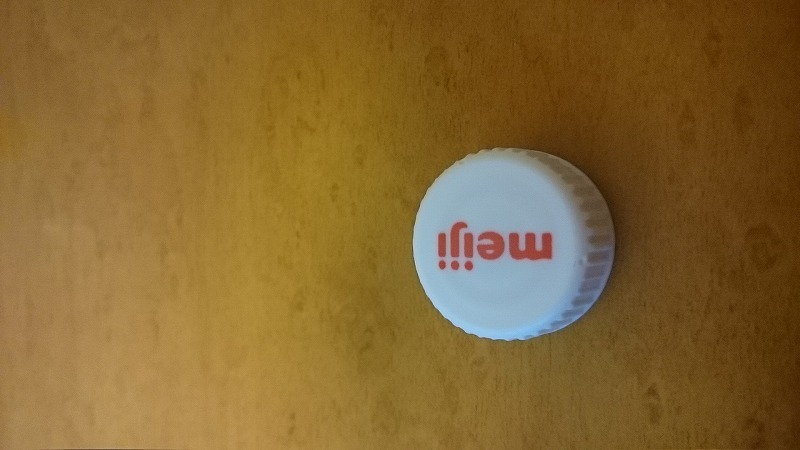B: (395, 143, 644, 358)
